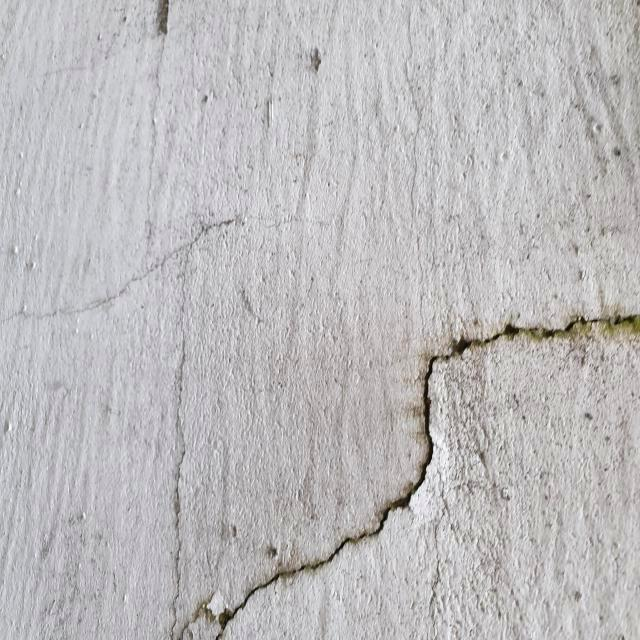SurfaceCrack: (1, 4, 640, 640)
